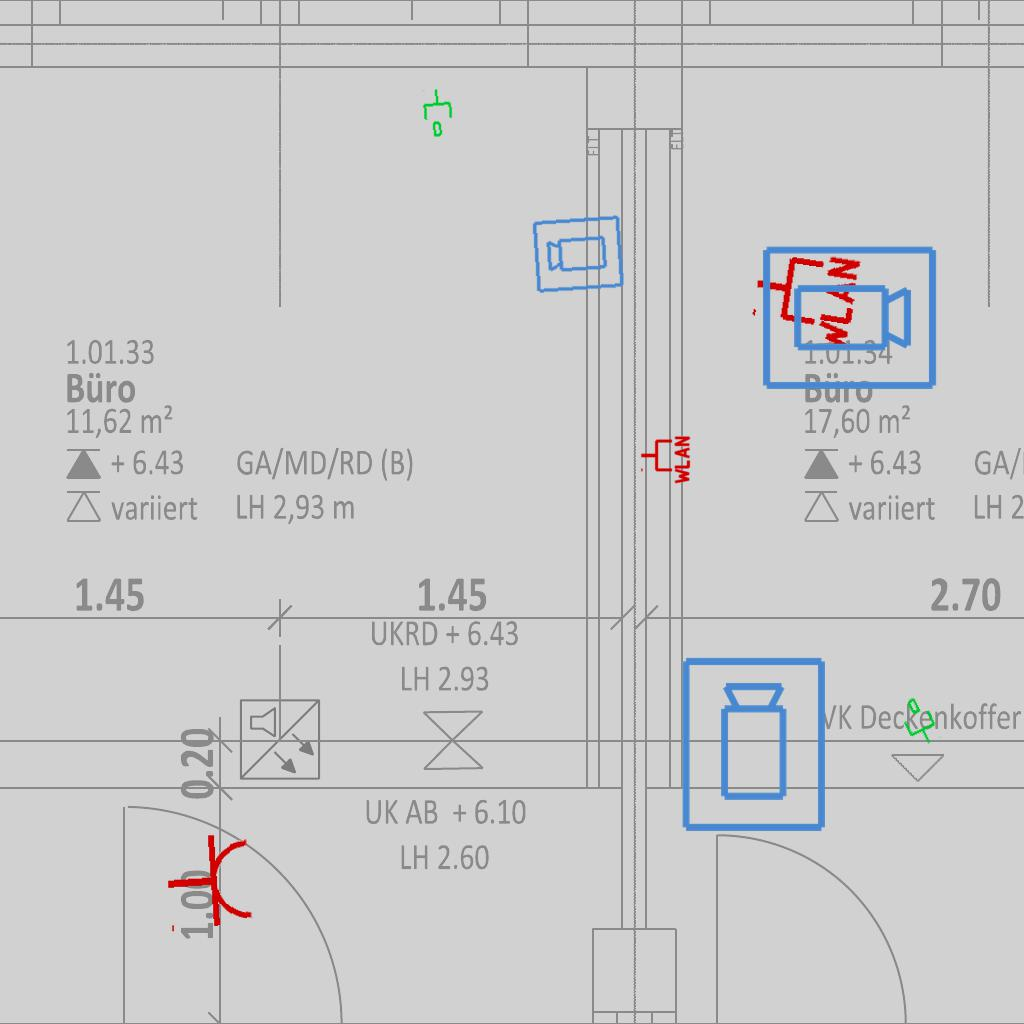Datenanschluss_einfach: (891, 692, 945, 752), (419, 86, 459, 140)
KFO_Kamera_mit_Festobjektiv: (678, 654, 832, 836), (758, 242, 940, 396), (530, 211, 627, 296)
Schukosteckdose_einfach: (162, 830, 257, 936)
WLAN: (743, 240, 864, 360), (639, 434, 691, 486)
